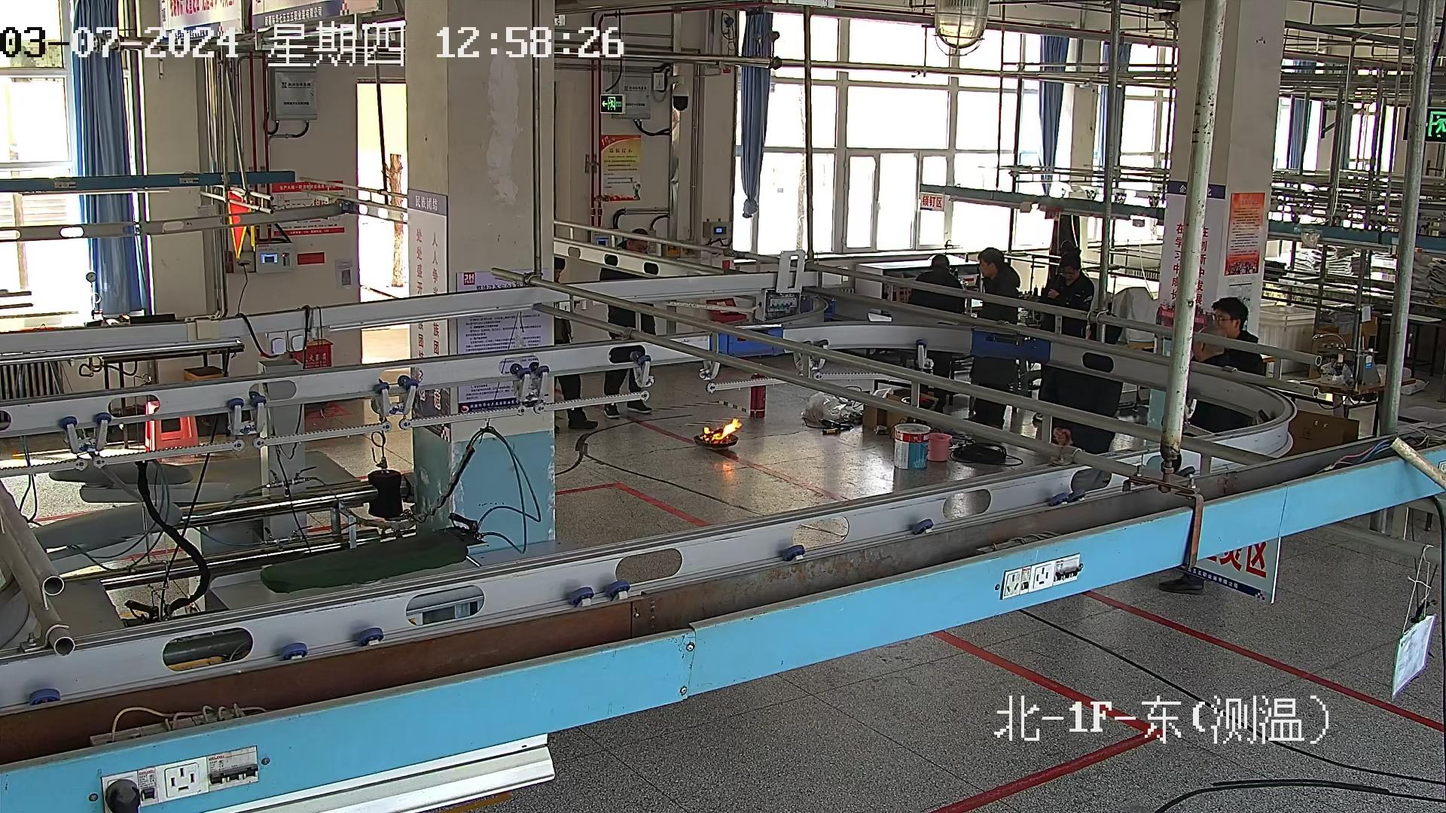fire: (697, 418, 741, 444)
